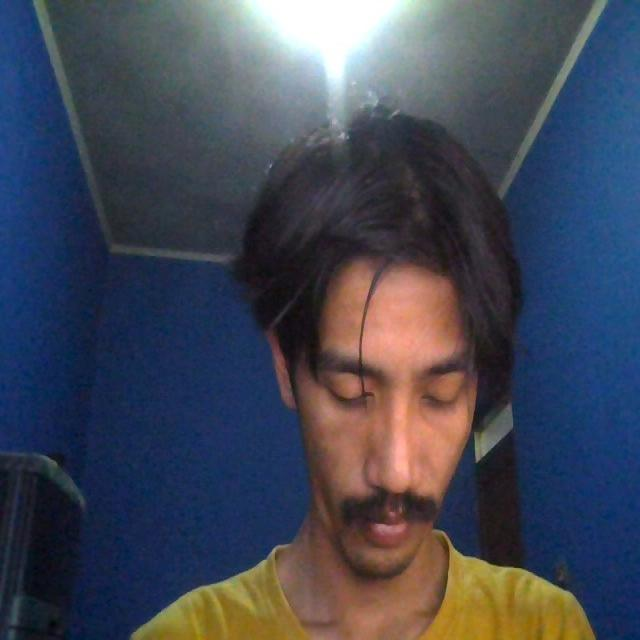Melihat Kebawah: (231, 100, 529, 597)
